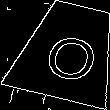O_N: (35, 22, 101, 82)
